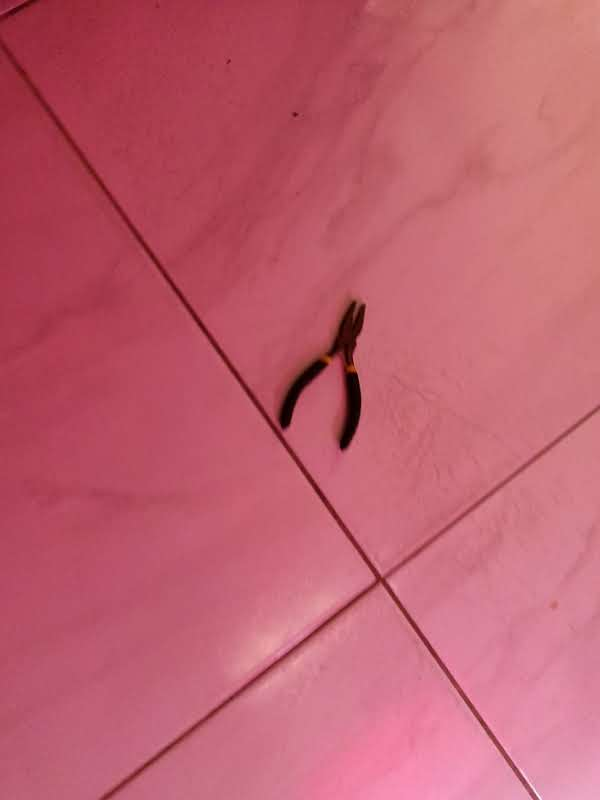Pinzas: (278, 291, 368, 450)
